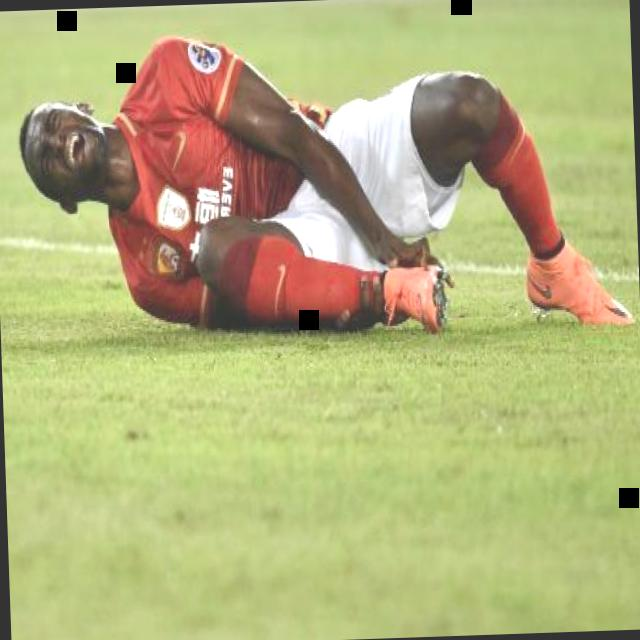Fall-Detected: (44, 0, 630, 349)
